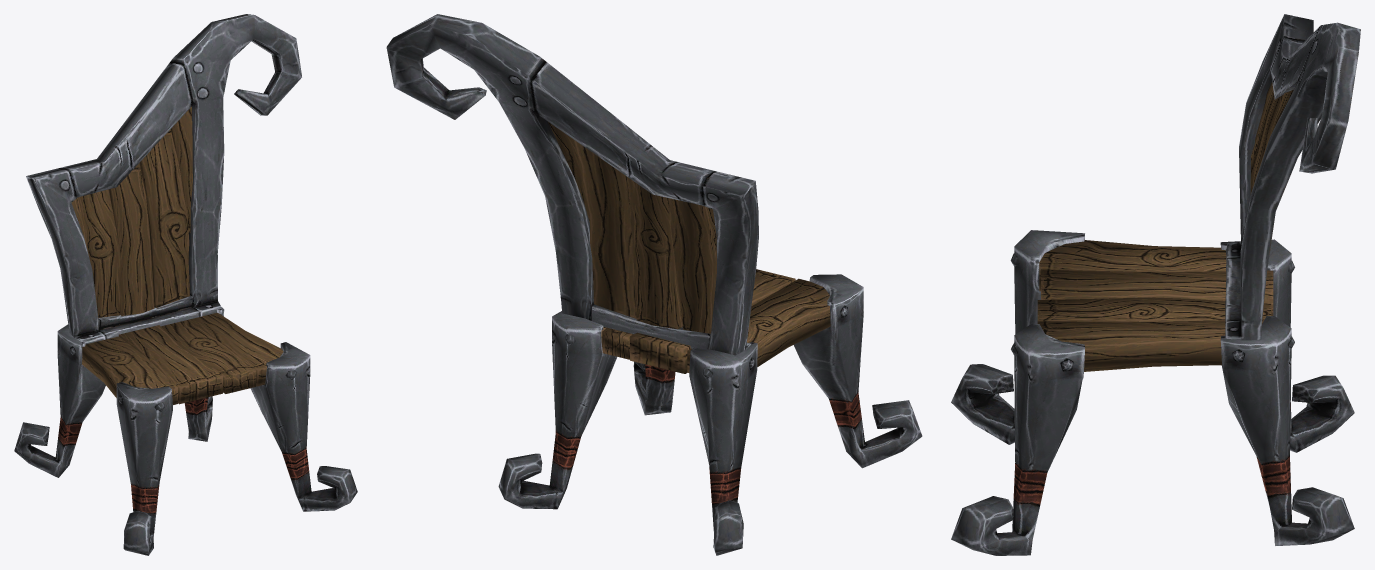
The model's file is chair.fbx.
The picture shows the model from 3 angles, left to right: view 1: azimuth 30°, elevation 25°; view 2: azimuth 150°, elevation 25°; view 3: azimuth 270°, elevation 25°; orthographic projection. The views are drawn at different scales.
Parts seen in each view (by area): view 1: node_id30; view 2: node_id30; view 3: node_id30.
Part boxes in pixels (bbox=[...]): node_id30: bbox=[14, 14, 357, 555]; node_id30: bbox=[386, 14, 922, 555]; node_id30: bbox=[951, 14, 1360, 555].
Size of the model in its own units: 0.4086 by 0.5106 by 0.3467.
1 material, 1 textured.
